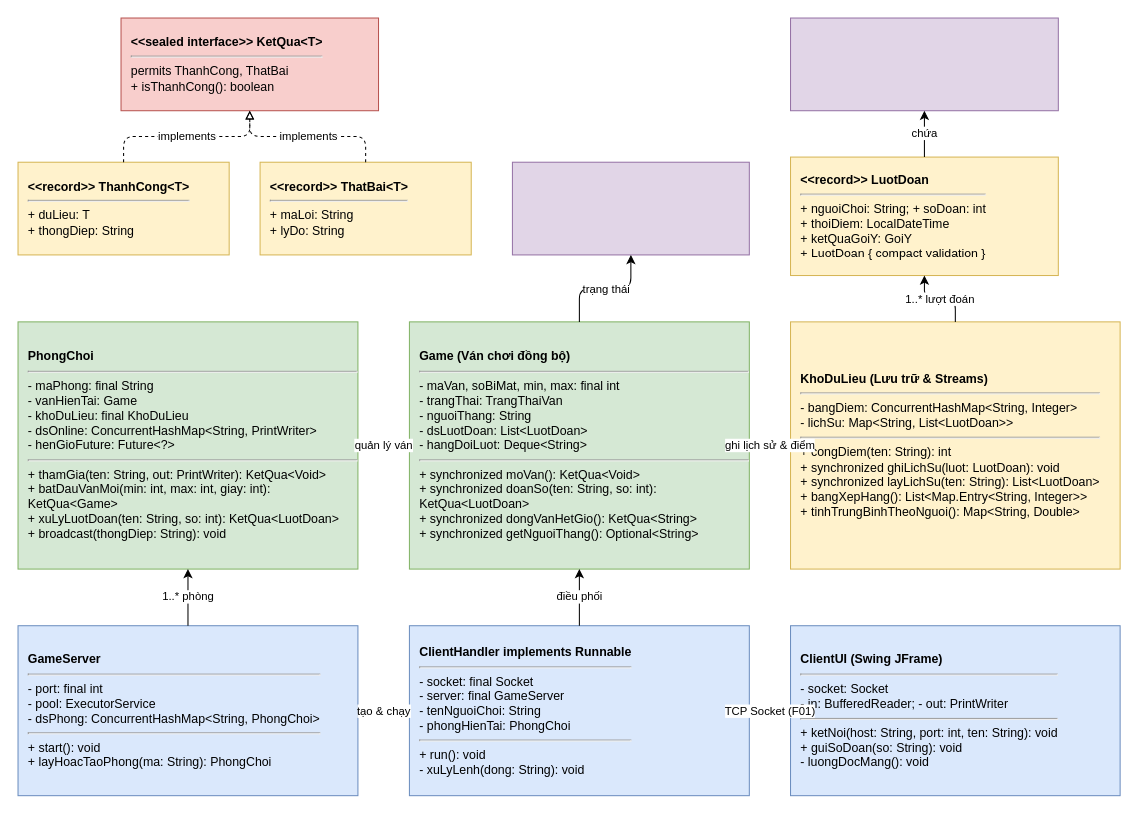
This 1138x814 diagram has some shape labels left out. Here are the shapes that lost their labels. From the top down, the box of each, then its label:
(789, 17, 1058, 111): <<enum>> GoiY LOWER, HIGHER, CORRECT + soSanh(doan: int, dich: int): GoiY
(511, 161, 749, 255): <<enum>> TrangThaiVan WAITING, PLAYING, FINISHED + coTheDoan(): boolean
